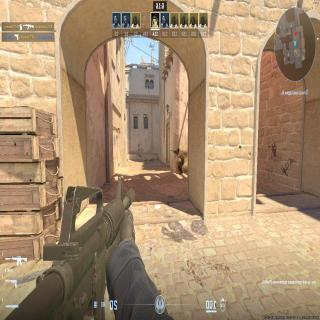T-Body: (175, 146, 185, 176)
T-Head: (176, 146, 180, 156)
